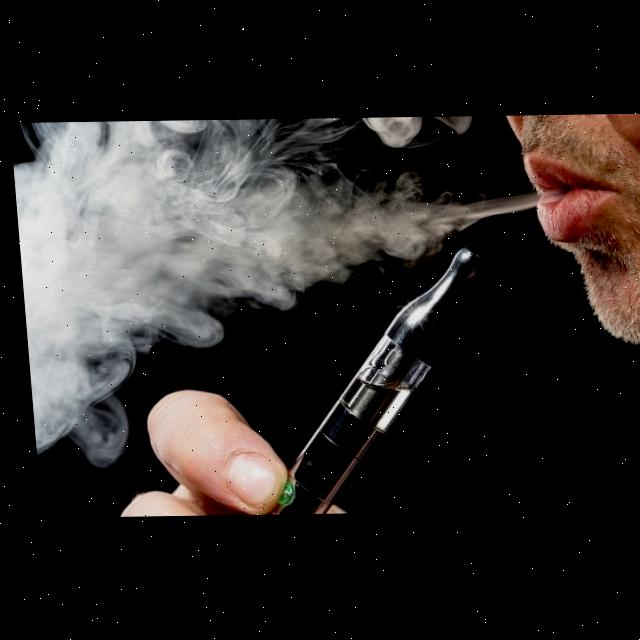vape: (242, 250, 498, 514)
